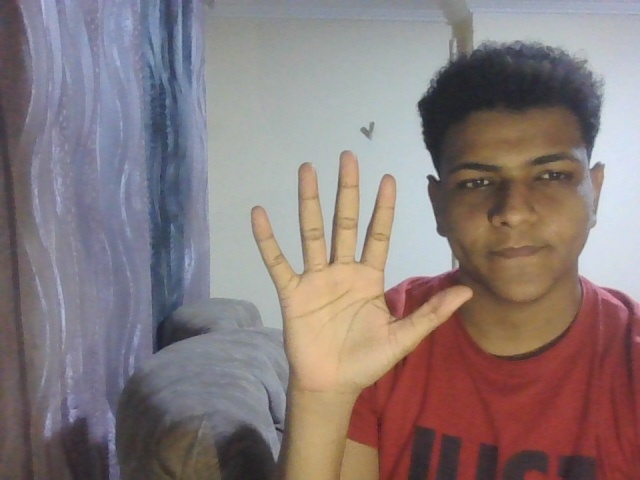Hello: (248, 141, 476, 395)
